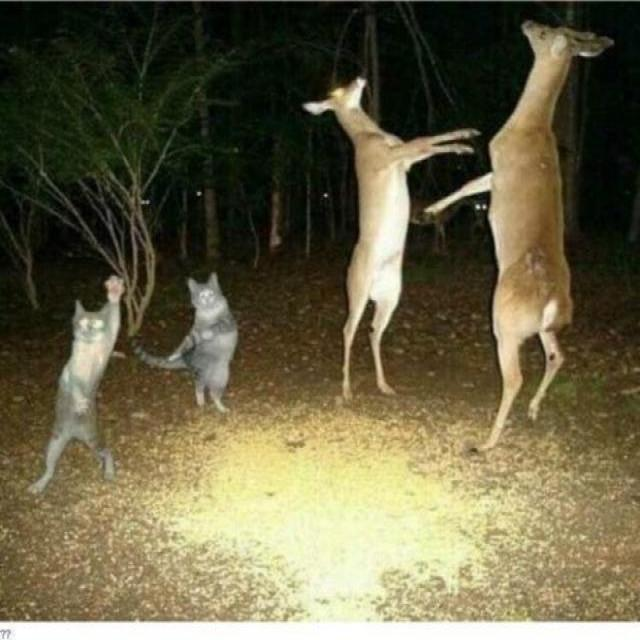deer: (417, 13, 619, 464), (285, 61, 474, 442)
